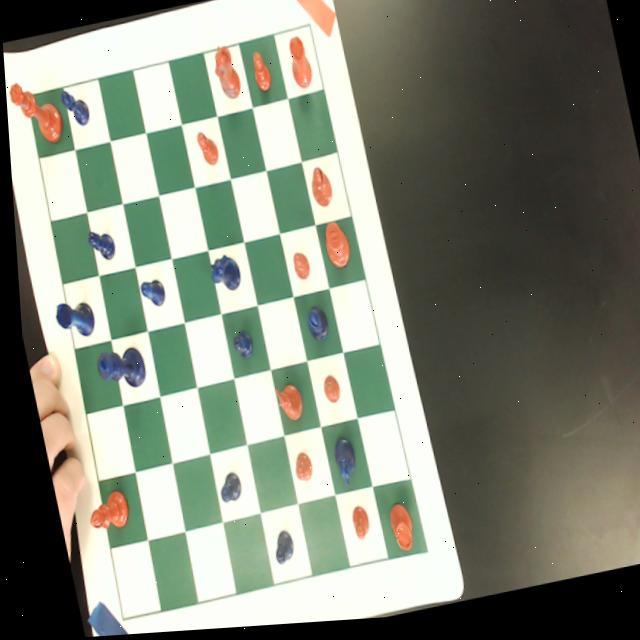B: (298, 308, 325, 346)
K: (88, 344, 144, 394)
N: (324, 438, 353, 493), (201, 251, 237, 295)
P: (57, 86, 89, 129), (82, 226, 113, 265), (260, 532, 289, 570), (132, 277, 163, 311), (209, 473, 237, 507), (224, 330, 250, 363)
R: (47, 296, 92, 341)
b: (75, 487, 124, 535), (304, 168, 330, 214)
k: (317, 222, 349, 275)
n: (208, 44, 242, 105), (267, 383, 300, 426)
p: (247, 52, 272, 98), (192, 130, 217, 169), (340, 506, 364, 546), (283, 452, 308, 487), (314, 376, 336, 409), (286, 252, 307, 284)
q: (5, 75, 63, 151)
r: (375, 504, 409, 561), (281, 36, 314, 92)
